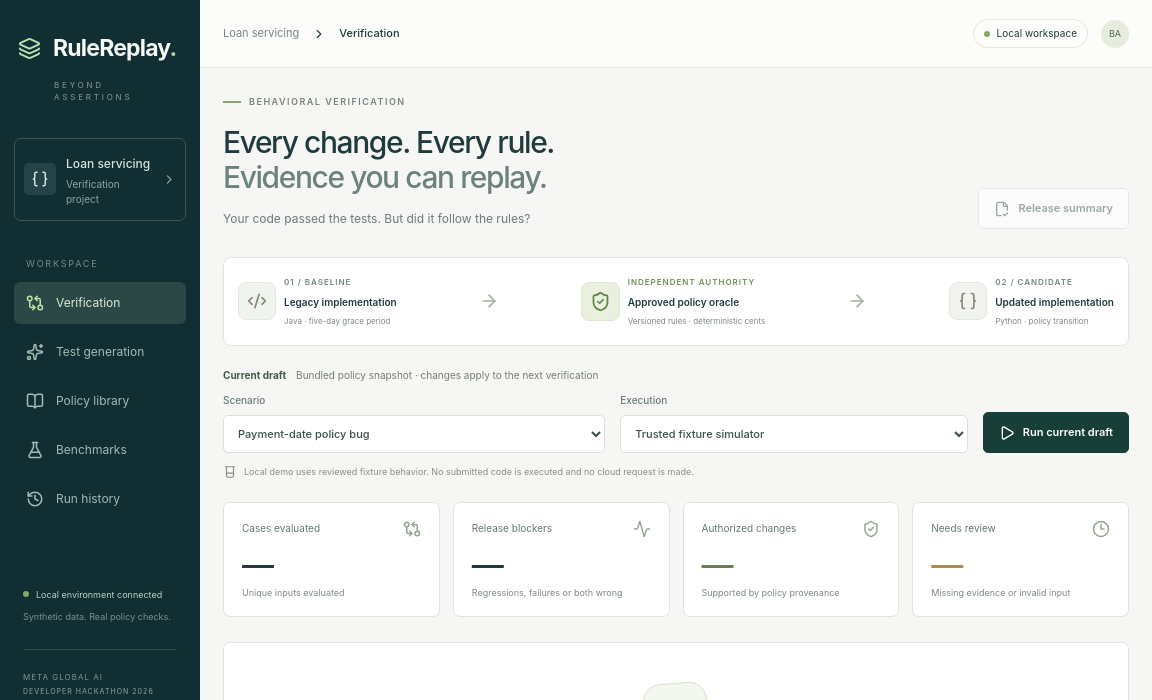
offline green run exposes unverified advisory and measured operations
Click the button "Run current draft" at (1056, 433), box [983,412,1129,453]
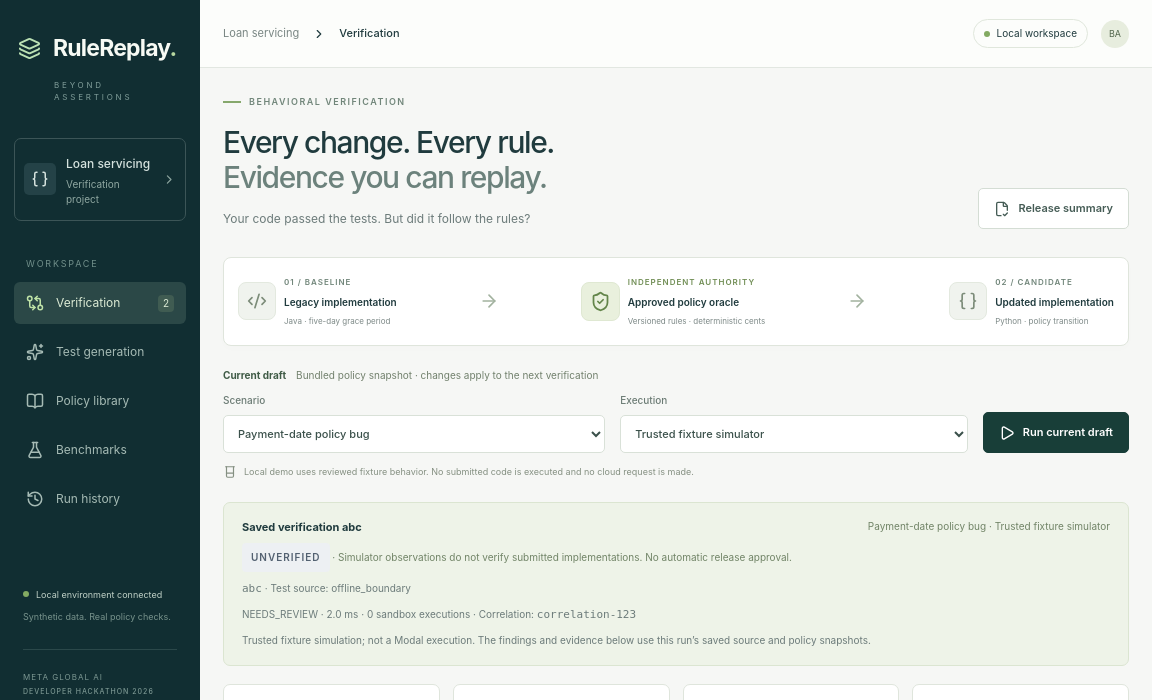
Now the element named "Verification advisory" shows "UNVERIFIED", box [251,552,320,564]
Now the text "0 sandbox executions" is shown, box [242,608,636,621]
Now the text "correlation-123" is shown, box [537,608,636,621]
